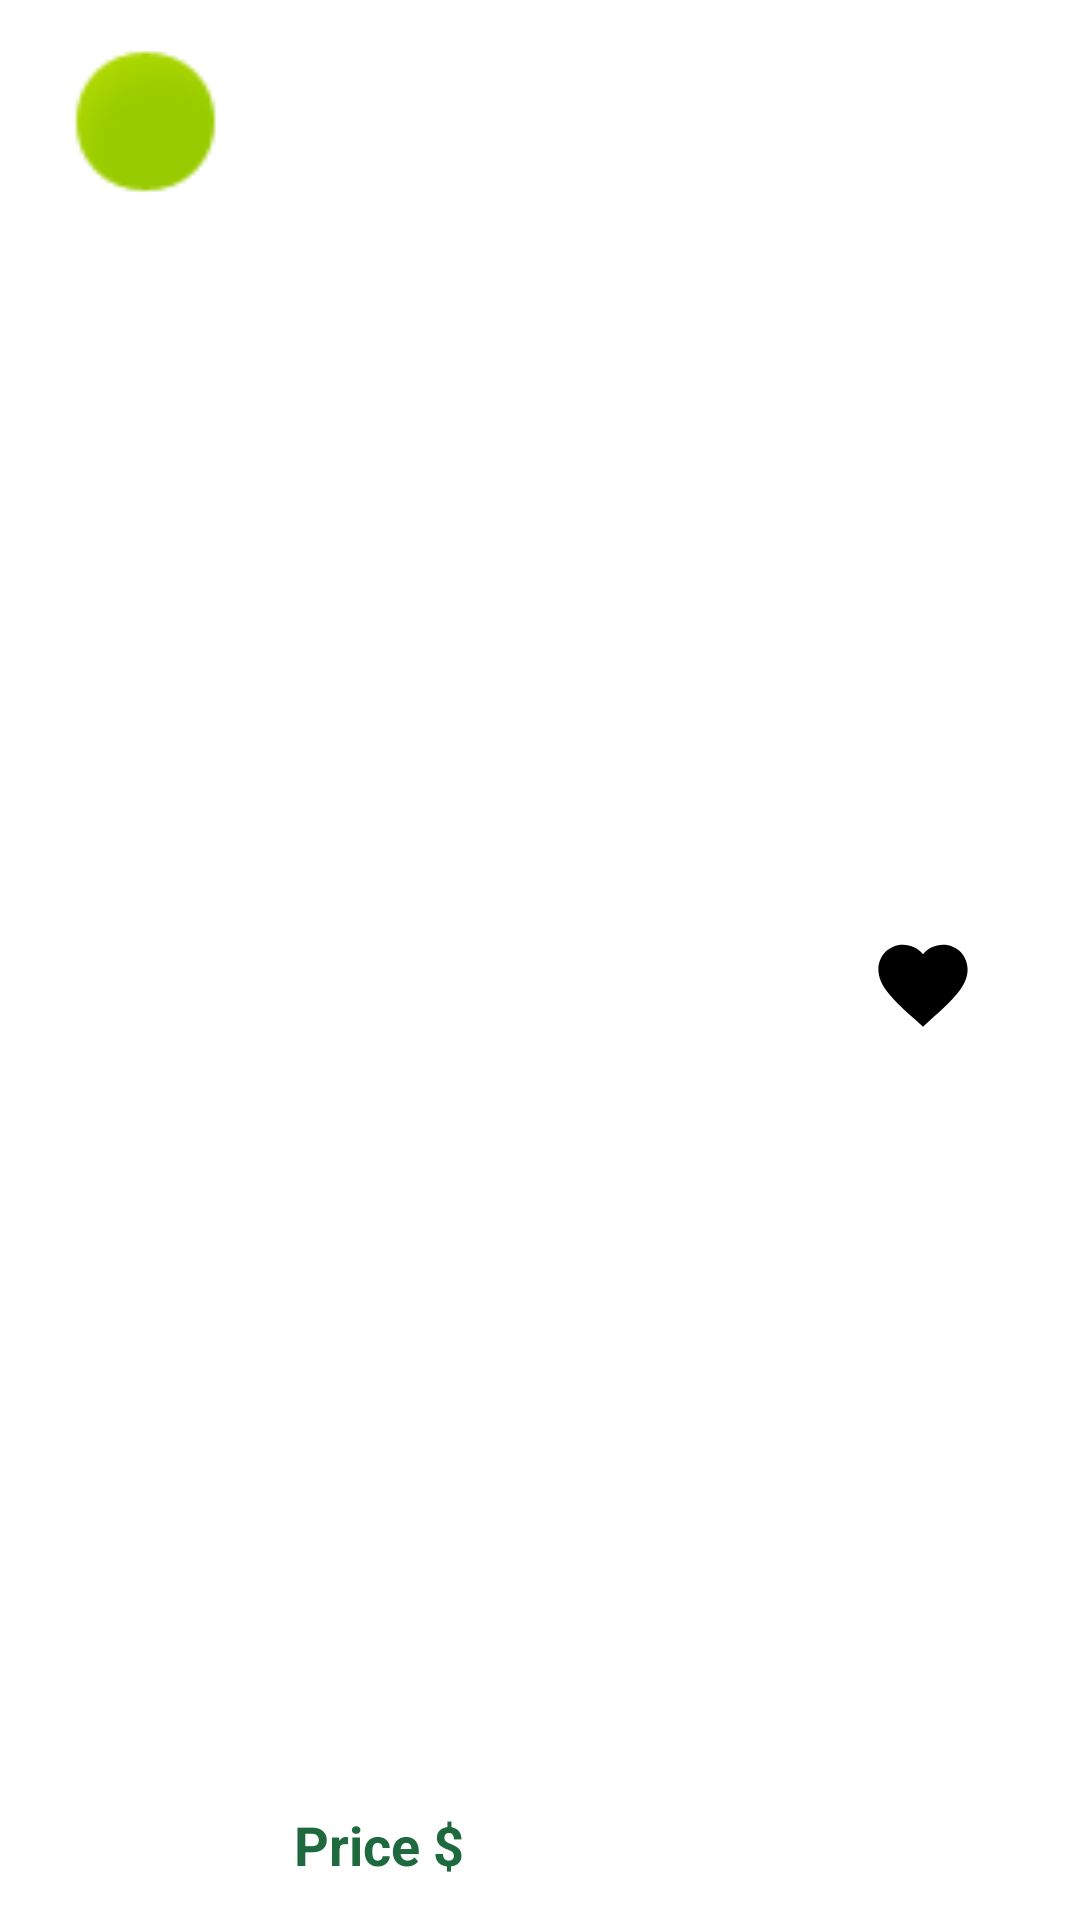

Named icons in this screenshot (1080px×1920px) and their bounding boxes, [x1,y1,x2,y2]:
favs: [878,944,968,1027]
